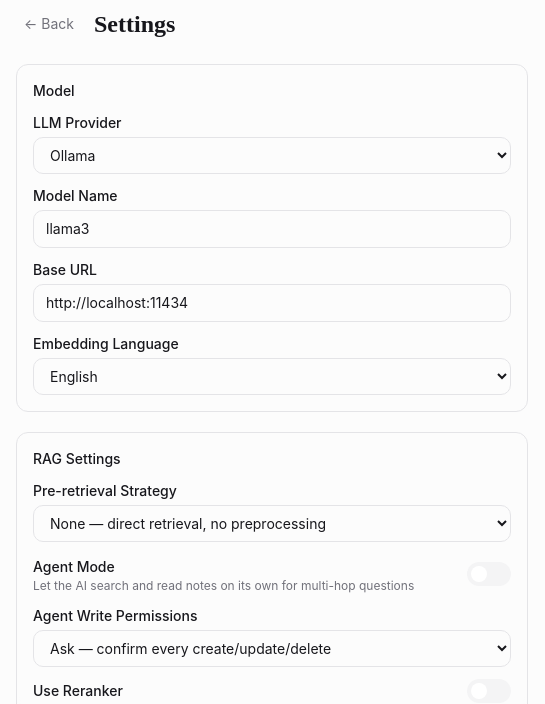
Test: SettingsPage › shows API key field after switching provider to openai-compatible
Check: the field showing "llama3" below "Model Name" is shown, box [33, 210, 511, 248]
Select "OpenAI Compatible" in the dropdown with test id "llm-provider-select". click: point(272, 156)
box: [33, 137, 511, 174]
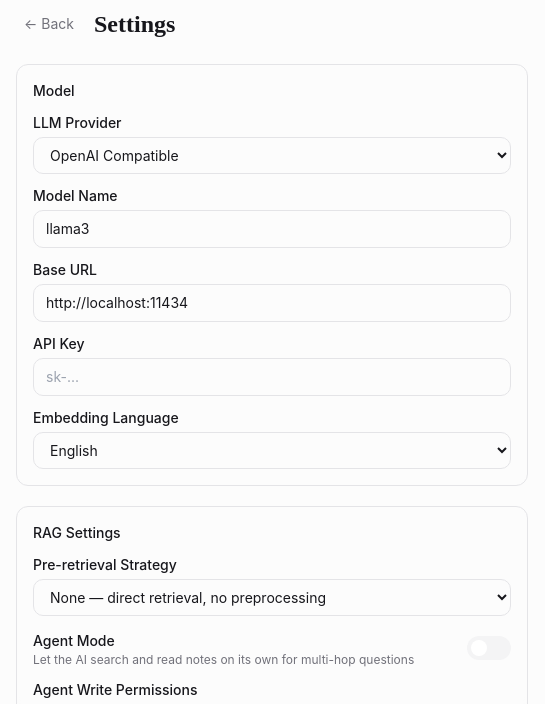
Check: the password field with test id "api-key-input" is shown, box [33, 358, 511, 396]
